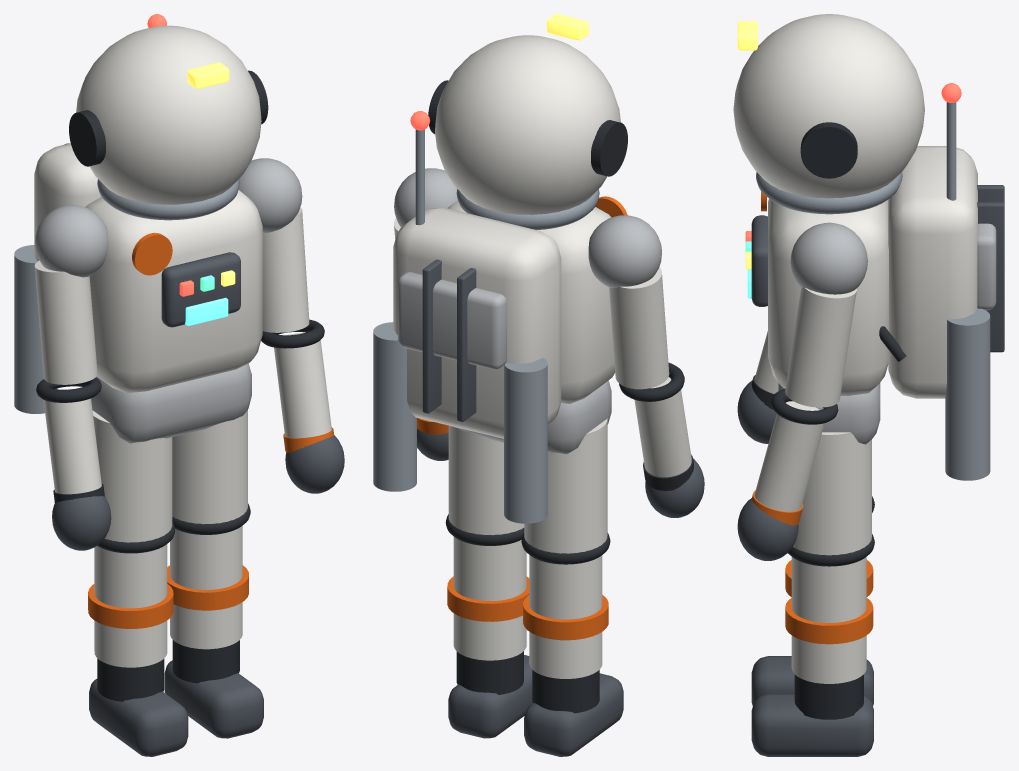
File: astronaut.glb
The picture shows the model from 3 angles, left to right: view 1: azimuth 30°, elevation 25°; view 2: azimuth 150°, elevation 25°; view 3: azimuth 270°, elevation 25°; orthographic projection. The views are drawn at different scales.
Visible parts, largest first — view 1: helmet, torso, Cube.002, Cylinder.002, Cylinder.006, Cylinder.001, Cylinder.005, Cylinder.015, Cylinder.018, Cube, Cube.001, Cylinder.016 (+21 smaller); view 2: helmet, pack, torso, Cylinder.002, Cylinder.009, Cylinder.001, Cylinder.005, Cube.008, Cylinder.010, Cylinder.006, Cylinder.015, Sphere.001 (+21 smaller); view 3: helmet, pack, torso, Cylinder.006, Cylinder.010, Cylinder.005, Cylinder.018, Cube.001, Cylinder.019, Sphere.003, Cylinder.014, Cylinder.004 (+17 smaller).
Part boxes in pixels (left/top/right/bottom): helmet: left=76, top=25, right=261, bottom=204; torso: left=85, top=190, right=262, bottom=393; Cube.002: left=91, top=364, right=251, bottom=443; Cylinder.002: left=92, top=410, right=172, bottom=542; Cylinder.006: left=172, top=410, right=247, bottom=524; Cylinder.001: left=94, top=544, right=167, bottom=667; Cylinder.005: left=170, top=526, right=242, bottom=649; Cylinder.015: left=34, top=260, right=97, bottom=384; Cylinder.018: left=262, top=207, right=309, bottom=332; Cube: left=89, top=679, right=188, bottom=756; Cube.001: left=164, top=660, right=263, bottom=738; Cylinder.016: left=43, top=389, right=101, bottom=494; helmet: left=435, top=35, right=620, bottom=214; pack: left=393, top=207, right=561, bottom=438; torso: left=447, top=200, right=615, bottom=403; Cylinder.002: left=524, top=418, right=607, bottom=553; Cylinder.009: left=504, top=357, right=547, bottom=523; Cylinder.001: left=529, top=555, right=602, bottom=678; Cylinder.005: left=453, top=536, right=526, bottom=660; Cube.008: left=398, top=272, right=506, bottom=369; Cylinder.010: left=373, top=322, right=416, bottom=491; Cylinder.006: left=448, top=425, right=524, bottom=535; Cylinder.015: left=609, top=267, right=669, bottom=389; Sphere.001: left=588, top=215, right=661, bottom=287; helmet: left=733, top=14, right=924, bottom=198; pack: left=888, top=146, right=977, bottom=398; torso: left=768, top=199, right=888, bottom=395; Cylinder.006: left=793, top=432, right=871, bottom=555; Cylinder.010: left=945, top=308, right=990, bottom=480; Cylinder.005: left=791, top=557, right=866, bottom=683; Cylinder.018: left=785, top=287, right=856, bottom=407; Cube.001: left=751, top=694, right=873, bottom=756; Cylinder.019: left=754, top=401, right=824, bottom=511; Sphere.003: left=790, top=222, right=867, bottom=294; Cylinder.014: left=800, top=122, right=857, bottom=178; Cylinder.004: left=794, top=674, right=863, bottom=719.
Bounding box in the file's own units: 0.83 × 1.91 × 0.665.
